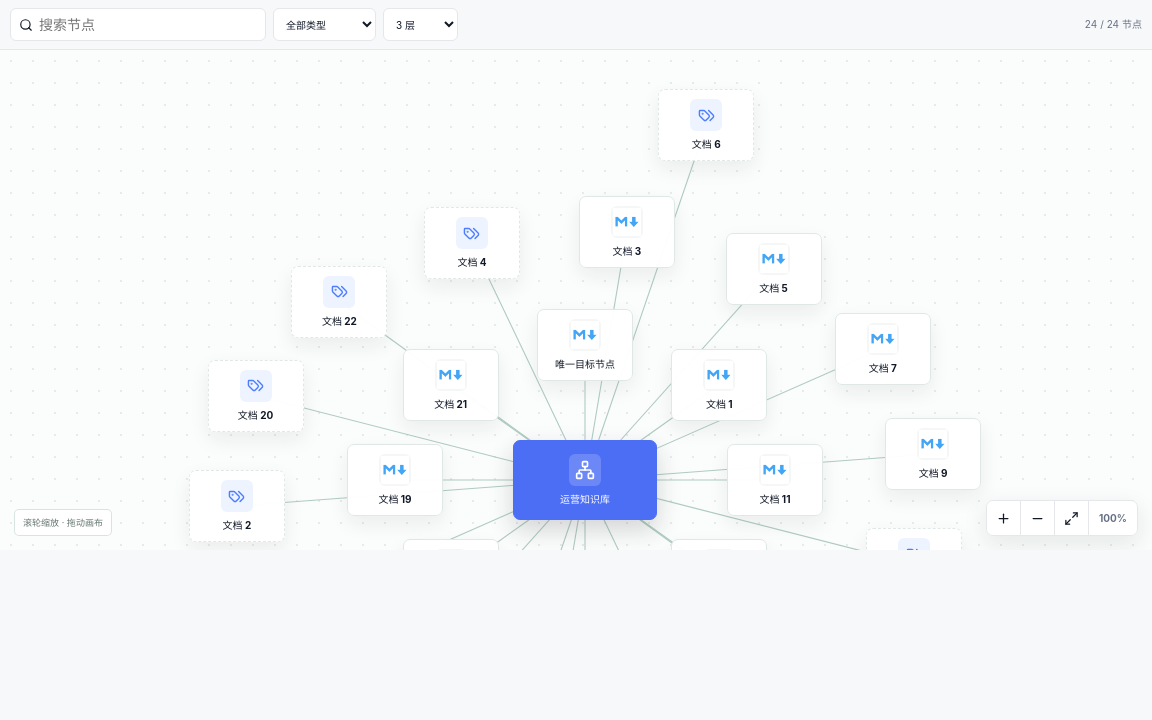
Test: KnowledgeGraph › filters nodes by search text
The width and height of the screenshot is (1152, 720).
In the field with placeholder "搜索节点": (148, 24) 39,9 -> 257,40, type "唯一目标"
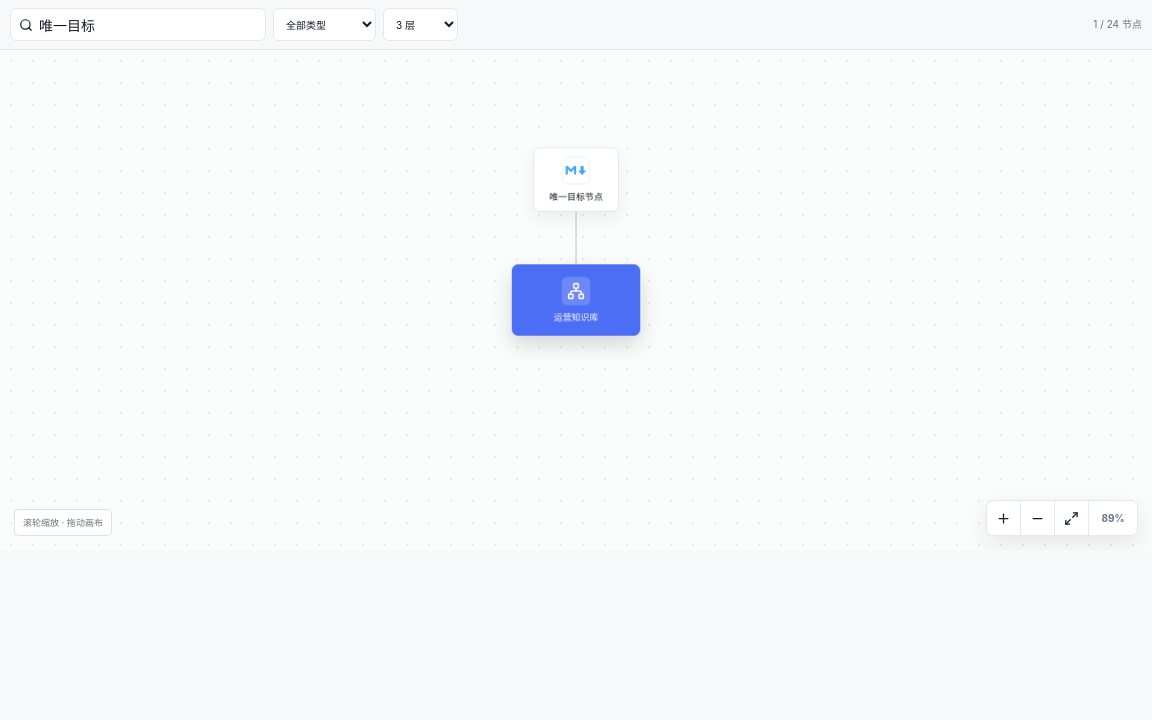
Expected: the text "唯一目标节点" is shown, 549,191 -> 603,202
Expected: the button "文档 1" is gone
